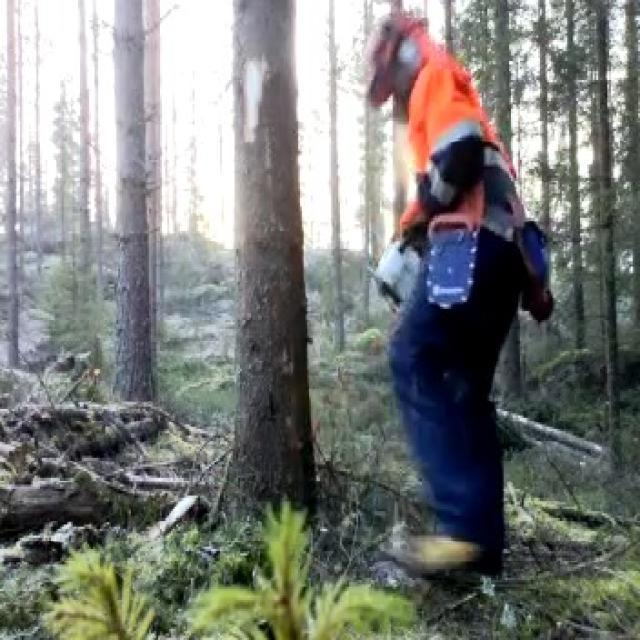Chainsaw: (354, 215, 438, 313)
